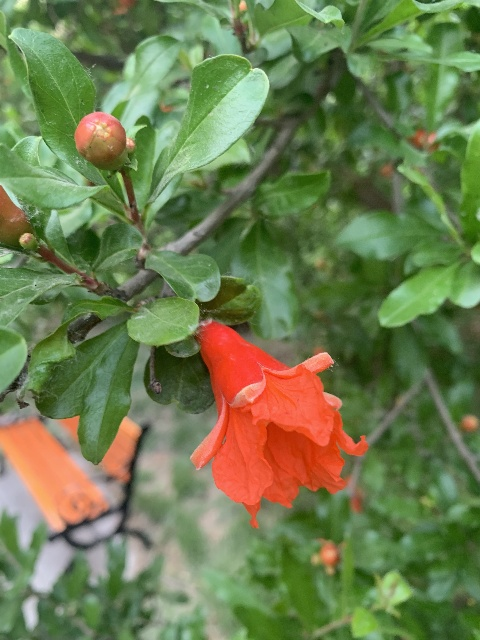bud: (74, 111, 127, 169)
flower: (190, 321, 367, 527)
